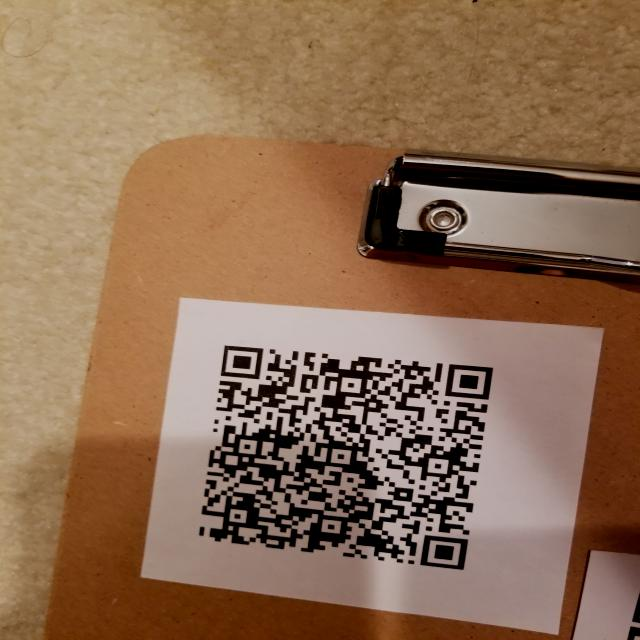QRCode: (192, 336, 500, 578)
